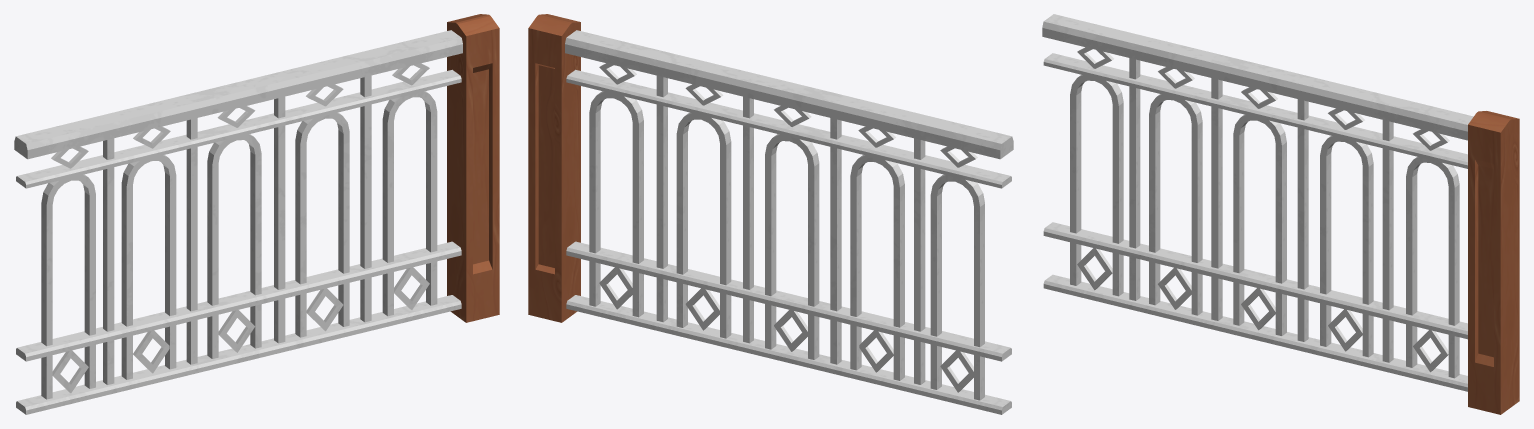
File: StationFrame_A_001.fbx
The picture shows the model from 3 angles, left to right: view 1: azimuth 30°, elevation 25°; view 2: azimuth 150°, elevation 25°; view 3: azimuth 330°, elevation 25°; orthographic projection.
Parts seen in each view (by area): view 1: StationFrame_A_001; view 2: StationFrame_A_001; view 3: StationFrame_A_001.
Boxes of the visible parts, x1,y1,x2,y2 form: StationFrame_A_001: [14, 14, 499, 414]; StationFrame_A_001: [528, 14, 1013, 414]; StationFrame_A_001: [1042, 14, 1519, 414].
Size of the model in its own units: 124 by 74.2 by 8.86.
Materials: 3 (3 with a texture image).
